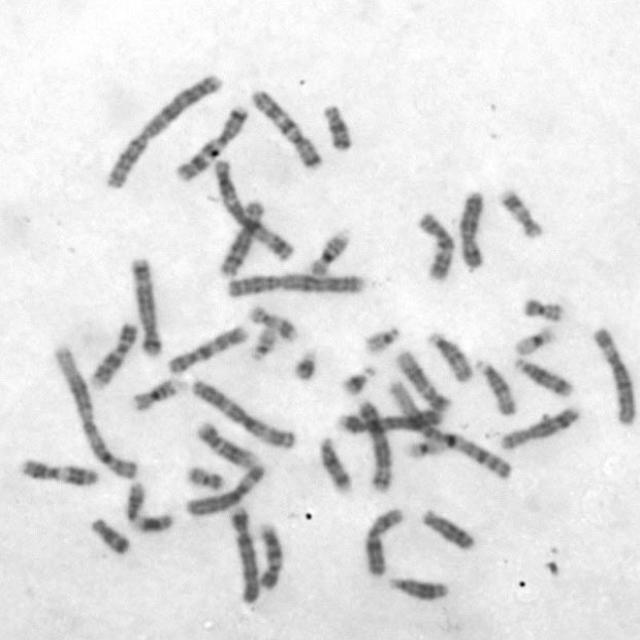A1: (384, 378, 513, 482), (51, 344, 140, 480)
A2: (104, 72, 223, 192), (227, 272, 368, 301)
A3: (212, 159, 296, 262), (189, 377, 296, 448)
B4: (228, 506, 261, 606), (334, 408, 443, 436)
B5: (355, 399, 394, 494), (131, 257, 163, 358)
C10: (165, 324, 249, 375), (416, 212, 456, 282)
C11: (125, 481, 176, 533), (22, 456, 101, 486)
C12: (392, 348, 454, 413), (194, 420, 260, 469)
C6: (588, 326, 638, 428), (183, 464, 267, 517)
C7: (173, 103, 249, 184), (249, 89, 323, 170)
C8: (498, 404, 583, 452), (218, 200, 264, 276)
C9: (90, 321, 138, 389), (257, 523, 284, 591)
D13: (421, 508, 478, 552), (388, 576, 450, 602)
D14: (513, 357, 576, 399), (317, 435, 352, 494)
D15: (473, 359, 518, 417), (426, 331, 474, 384)
E16: (309, 232, 351, 276), (131, 378, 179, 412)
E17: (497, 188, 544, 241), (249, 304, 300, 342)
E18: (90, 516, 132, 556), (321, 103, 353, 152)
F19: (514, 326, 556, 356), (405, 436, 448, 458)
F20: (186, 464, 225, 492), (523, 296, 565, 322)
G21: (338, 367, 378, 397), (292, 346, 320, 382)
G22: (362, 326, 403, 356), (248, 325, 278, 363)
X: (363, 507, 406, 577), (456, 190, 490, 270)
